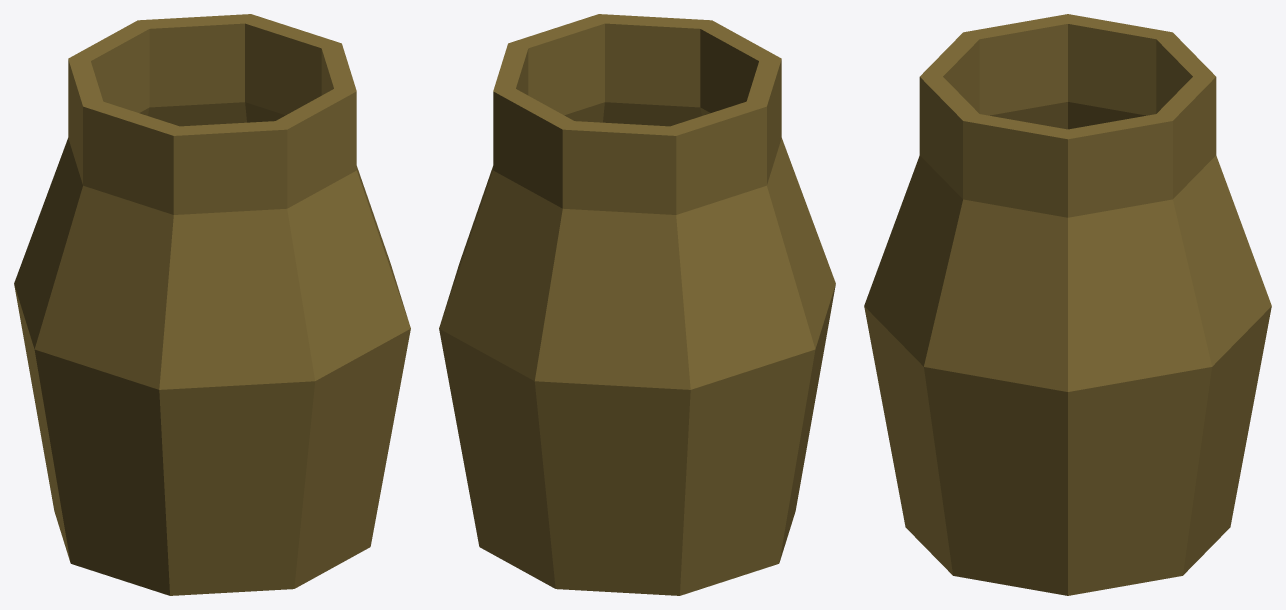
The model's file is vase.fbx.
3 renders of one model, left to right at view 1: azimuth 30°, elevation 25°; view 2: azimuth 150°, elevation 25°; view 3: azimuth 270°, elevation 25°, orthographic.
Parts seen in each view (by area): view 1: Vase; view 2: Vase; view 3: Vase.
Part boxes in pixels (<box>): Vase: <box>14,14,410,595</box>; Vase: <box>439,14,835,595</box>; Vase: <box>864,14,1271,595</box>.
Size of the model in its own units: 200 by 244 by 200.
